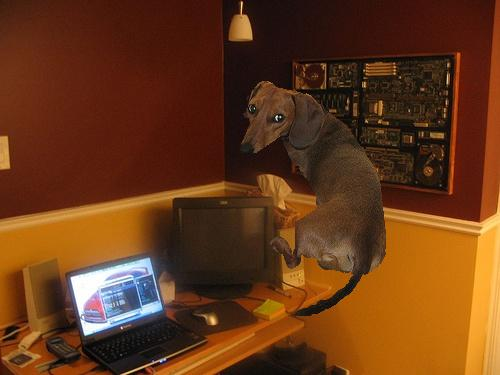tampered: (241, 82, 386, 316)
